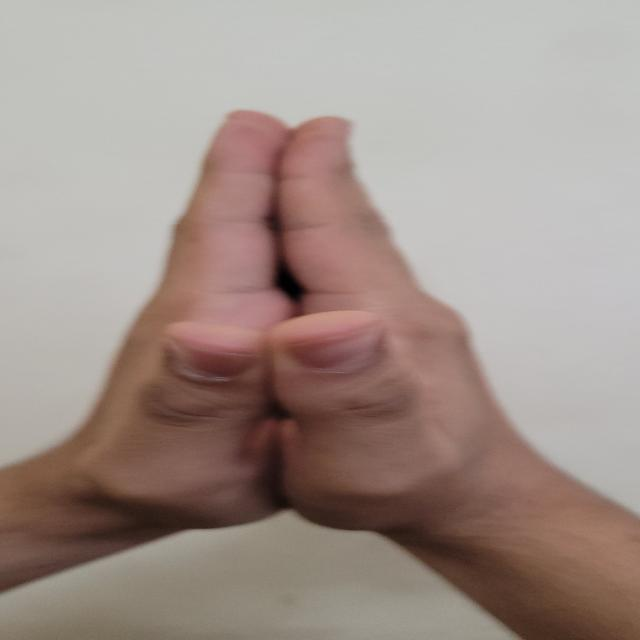Thank You: (62, 94, 569, 583)
